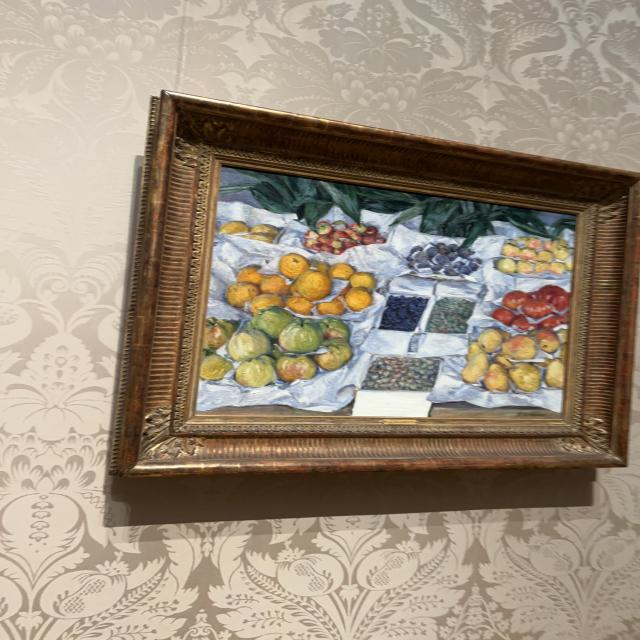fruits: (200, 168, 574, 416)
